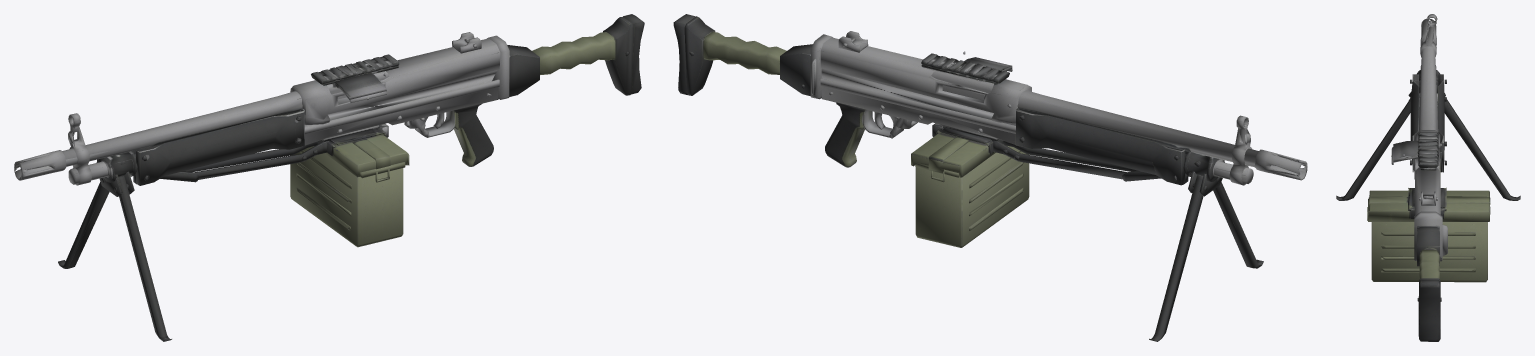
File: lmg_juggernaut.glb
The picture shows the model from 3 angles, left to right: view 1: azimuth 30°, elevation 25°; view 2: azimuth 150°, elevation 25°; view 3: azimuth 270°, elevation 25°; orthographic projection. The views are drawn at different scales.
Bounding box in the file's own units: 0.958 × 0.2886 × 0.2866.
1 material, 1 textured.
